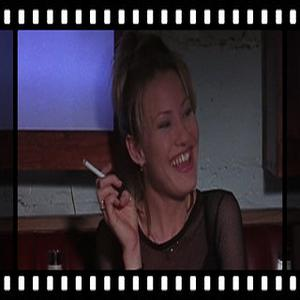cigarette: (83, 159, 108, 182)
